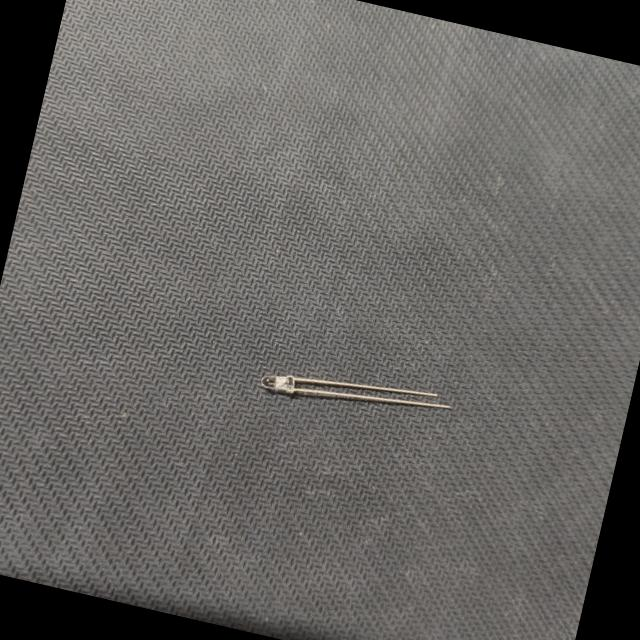led: (254, 338, 472, 442)
